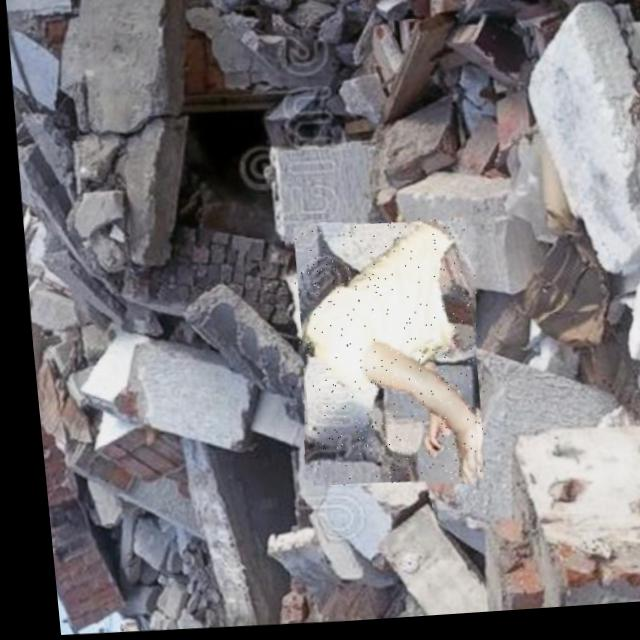Person in Rubble: (279, 218, 485, 494)
